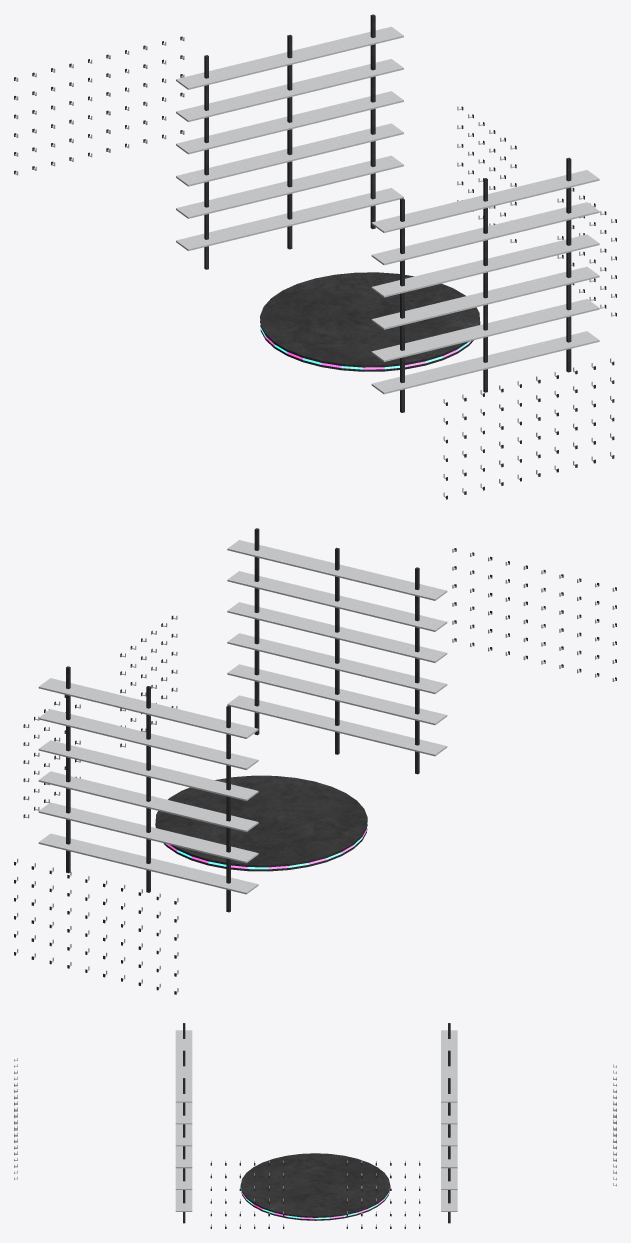
The model's file is Prizes.glb.
The picture shows the model from 3 angles, top to bottom: view 1: azimuth 30°, elevation 25°; view 2: azimuth 150°, elevation 25°; view 3: azimuth 270°, elevation 25°; orthographic projection. The views are drawn at different scales.
Visible parts, largest first — view 1: Prize Shelves.004, Prize Shelves.005, Prize Lazy Susan.002, Prize Hooks.011, Prize Hooks.010, Prize Hooks.008; view 2: Prize Shelves.005, Prize Shelves.004, Prize Lazy Susan.002, Prize Hooks.010, Prize Hooks.011, Prize Hooks.009; view 3: Prize Lazy Susan.002, Prize Shelves.005, Prize Shelves.004, Prize Hooks.008, Prize Hooks.009.
Boxes of the visible parts, left/top/right/bottom form: Prize Shelves.004: left=176, top=14, right=403, bottom=269; Prize Shelves.005: left=371, top=157, right=599, bottom=412; Prize Lazy Susan.002: left=260, top=272, right=480, bottom=371; Prize Hooks.011: left=443, top=358, right=614, bottom=499; Prize Hooks.010: left=14, top=36, right=184, bottom=175; Prize Hooks.008: left=457, top=106, right=516, bottom=242; Prize Shelves.005: left=227, top=528, right=447, bottom=774; Prize Shelves.004: left=38, top=666, right=258, bottom=912; Prize Lazy Susan.002: left=155, top=775, right=367, bottom=871; Prize Hooks.010: left=14, top=858, right=178, bottom=994; Prize Hooks.011: left=452, top=548, right=616, bottom=681; Prize Hooks.009: left=120, top=615, right=177, bottom=747; Prize Lazy Susan.002: left=240, top=1153, right=390, bottom=1220; Prize Shelves.005: left=175, top=1023, right=192, bottom=1223; Prize Shelves.004: left=441, top=1023, right=457, bottom=1223; Prize Hooks.008: left=346, top=1160, right=420, bottom=1228; Prize Hooks.009: left=210, top=1160, right=284, bottom=1228.
Size of what is drawn, in the model's own units: 10.25 by 6.6 by 25.
4 materials, 2 textured.
